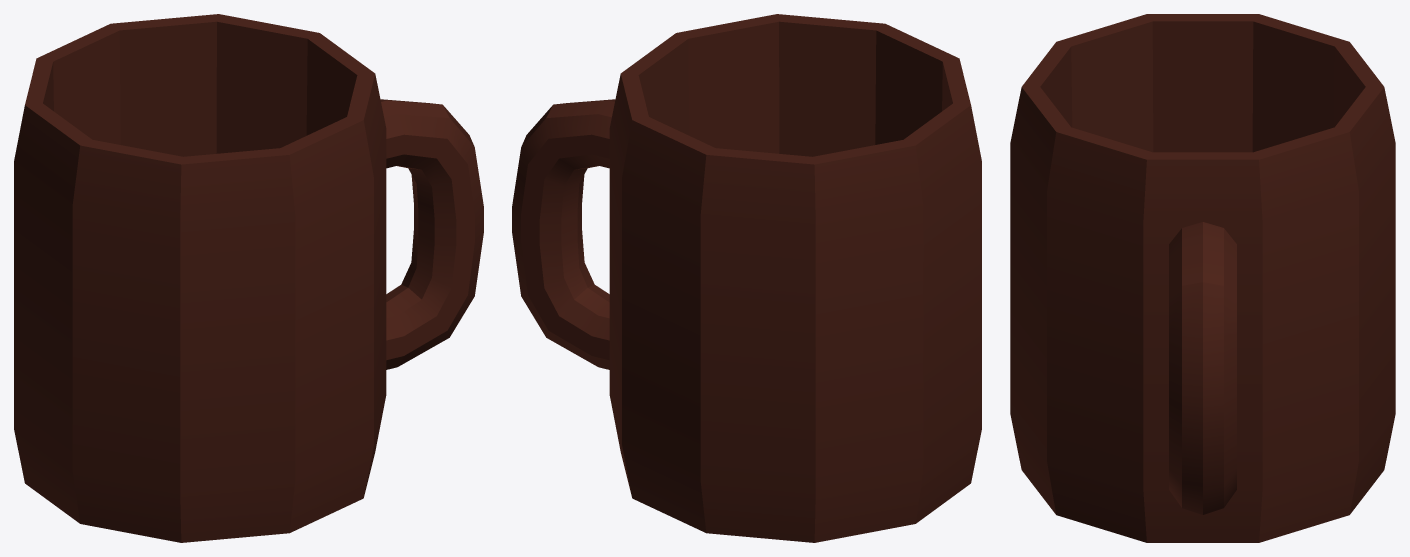
The model's file is kubek.fbx.
3 renders of one model, left to right at view 1: azimuth 30°, elevation 25°; view 2: azimuth 150°, elevation 25°; view 3: azimuth 270°, elevation 25°, orthographic.
Visible parts, largest first — view 1: kubek_L; view 2: kubek_L; view 3: kubek_L.
Boxes of the visible parts, <box> form: kubek_L: <box>14,14,483,542</box>; kubek_L: <box>512,14,981,542</box>; kubek_L: <box>1010,14,1395,542</box>.
Size of the model in its own units: 111 by 147 by 122.
